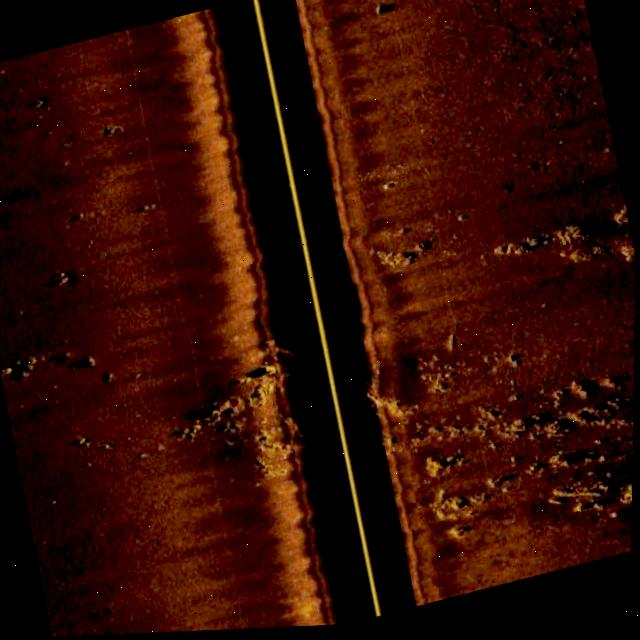mine: (371, 0, 397, 21), (546, 496, 571, 514)
